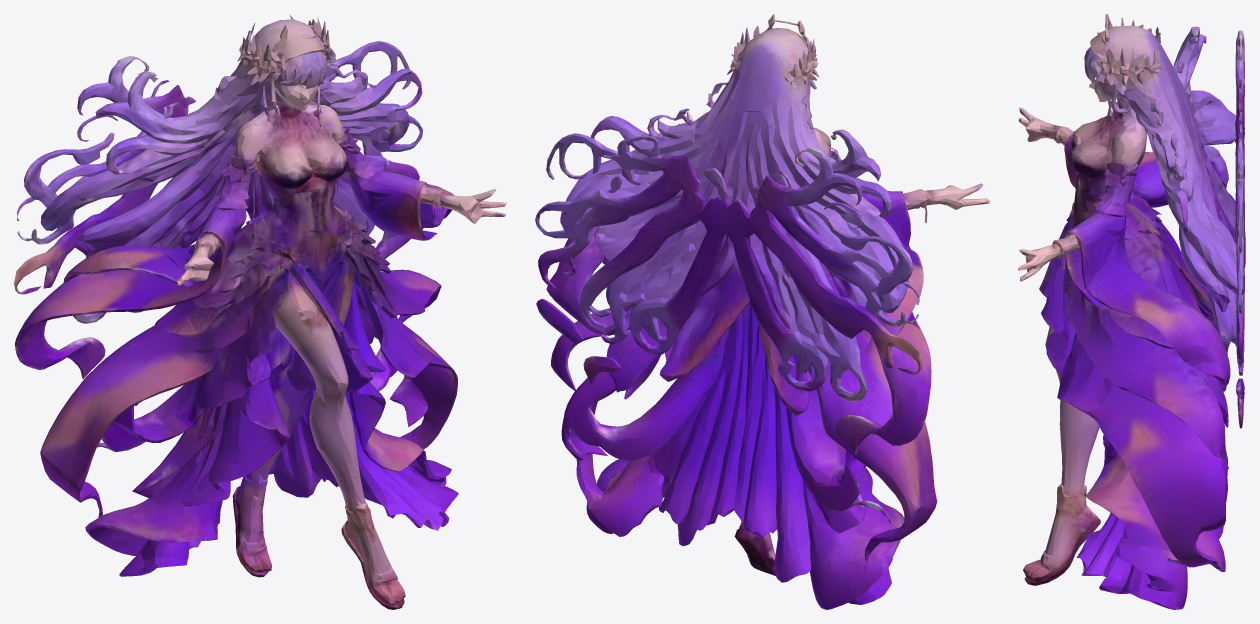
File: whi.glb
3 renders of one model, left to right at view 1: azimuth 30°, elevation 25°; view 2: azimuth 150°, elevation 25°; view 3: azimuth 270°, elevation 25°, orthographic. The views are drawn at different scales.
Parts seen in each view (by area): view 1: model.007; view 2: model.007; view 3: model.007.
Boxes of the visible parts, <box> form: model.007: <box>14,15,506,609</box>; model.007: <box>535,14,989,609</box>; model.007: <box>1018,14,1245,609</box>.
Size of the model in its own units: 0.7518 by 1 by 0.3847.
Materials: 1 (1 with a texture image).
